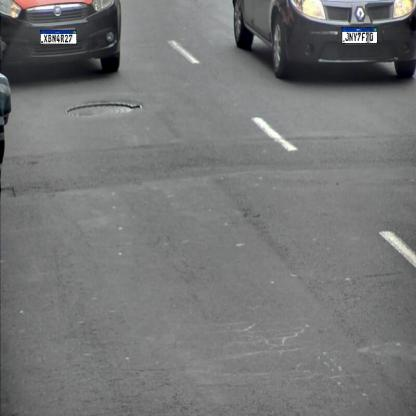PlacaM: (342, 27, 378, 44), (40, 30, 77, 44)
